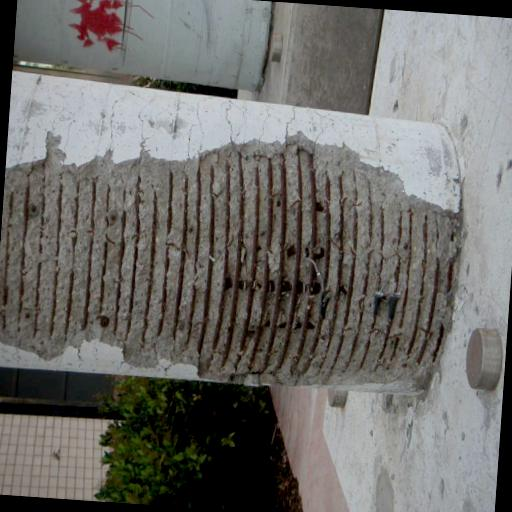spalling: (0, 140, 461, 383)
